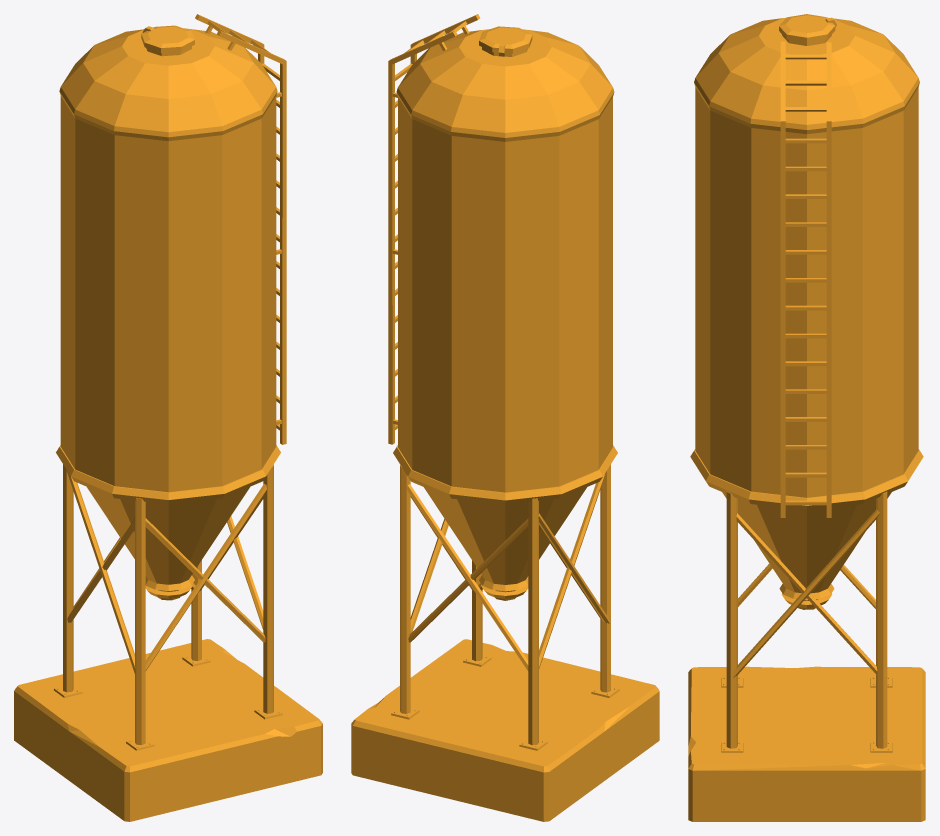
Rendered from SM_Bin_Grain_Tall.fbx.
3 renders of one model, left to right at view 1: azimuth 30°, elevation 25°; view 2: azimuth 150°, elevation 25°; view 3: azimuth 270°, elevation 25°, orthographic. The views are drawn at different scales.
Visible parts, largest first — view 1: bin-grain-tall; view 2: bin-grain-tall; view 3: bin-grain-tall.
Boxes of the visible parts, <box> form: bin-grain-tall: <box>14,14,322,821</box>; bin-grain-tall: <box>351,14,659,821</box>; bin-grain-tall: <box>688,14,925,821</box>.
Bounding box in the file's own units: 2.39 × 8.09 × 2.32.
